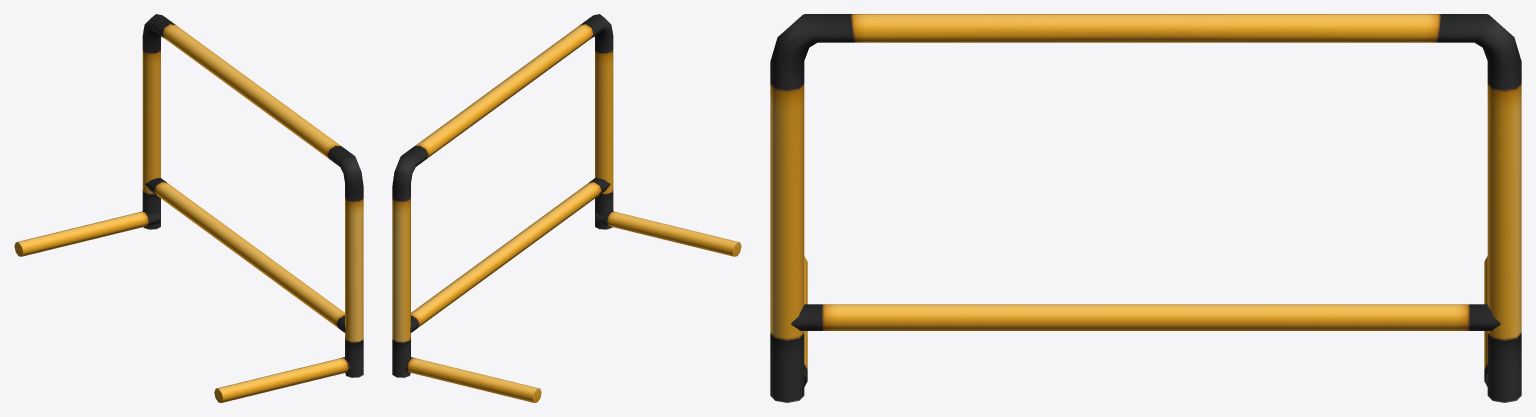
The model's file is football_train01_1.fbx.
The picture shows the model from 3 angles, left to right: view 1: azimuth 30°, elevation 25°; view 2: azimuth 150°, elevation 25°; view 3: azimuth 270°, elevation 25°; orthographic projection. The views are drawn at different scales.
Visible parts, largest first — view 1: polySurface5973; view 2: polySurface5973; view 3: polySurface5973.
Part boxes in pixels (x1=…): polySurface5973: x1=14, y1=14, x2=363, y2=402; polySurface5973: x1=392, y1=14, x2=741, y2=402; polySurface5973: x1=770, y1=14, x2=1521, y2=402.
Size of the model in its own units: 0.807 by 1.16 by 2.08.
